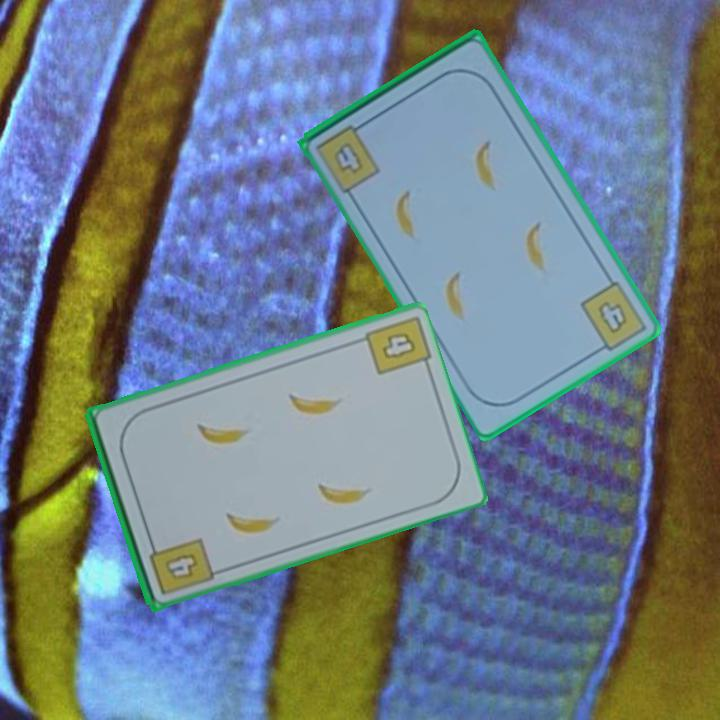4b: (576, 277, 646, 357), (145, 534, 216, 598), (330, 138, 367, 178), (379, 328, 420, 362)
